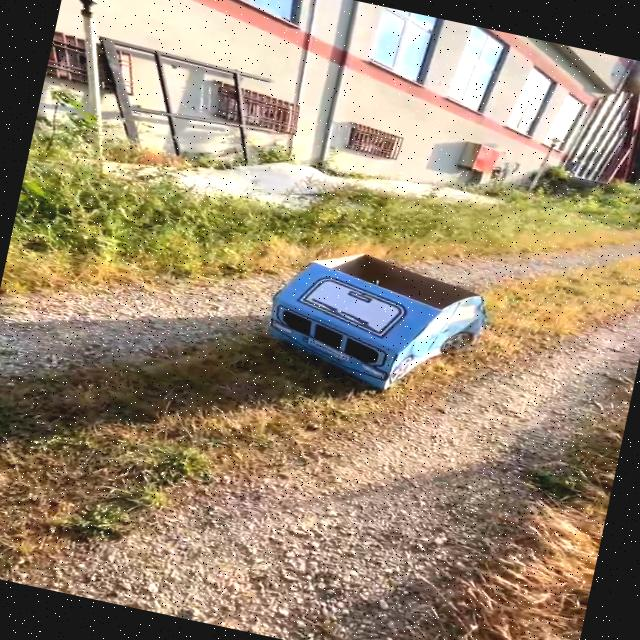blue_car: (206, 205, 516, 438)
